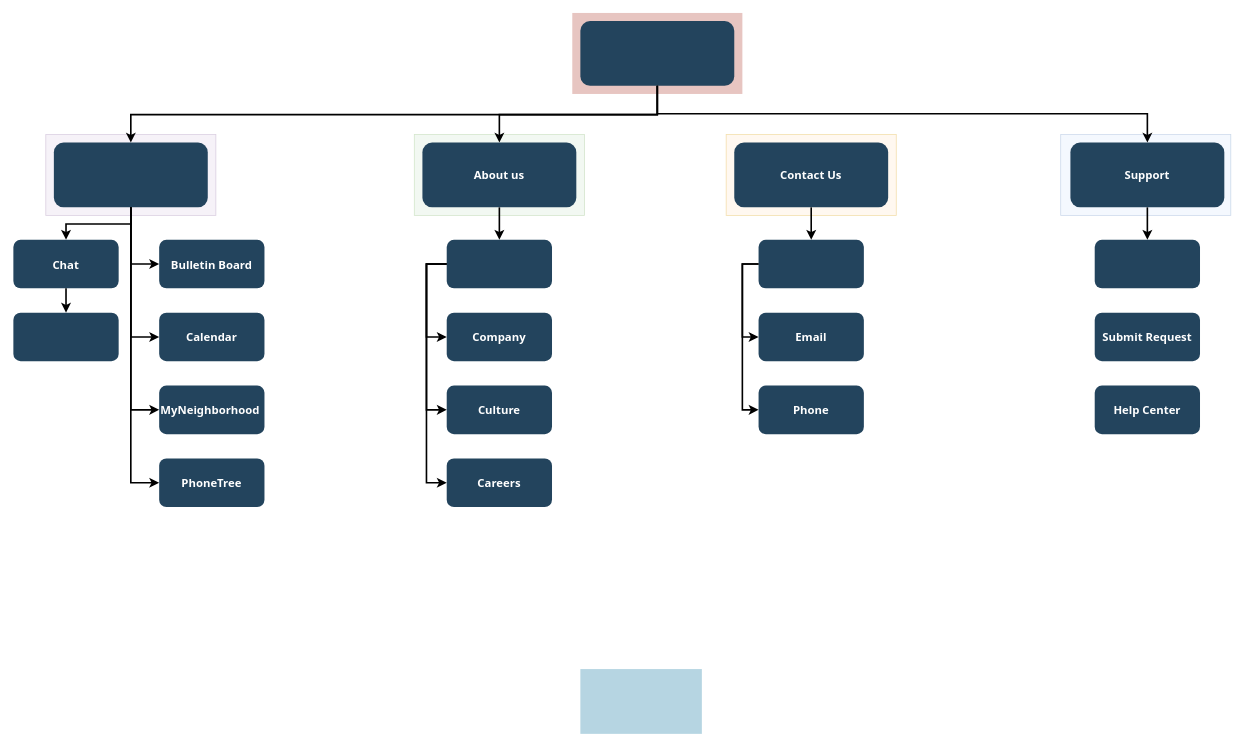
The diagram is 1244 pixels wide and 747 high, and some of its shapes have lost their labels. The shapes that lost their labels are listed below. From the top down, each one's centre as x and y in pixels, then its label:
[657,53]: Home
[130,174]: Features
[499,263]: Team
[810,263]: Address
[1147,263]: FAQ
[65,336]: Newsleter
